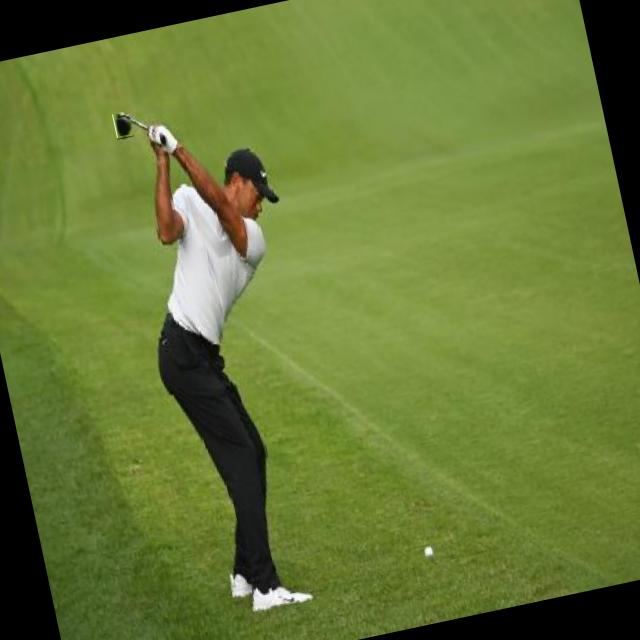club head: (112, 111, 134, 140)
